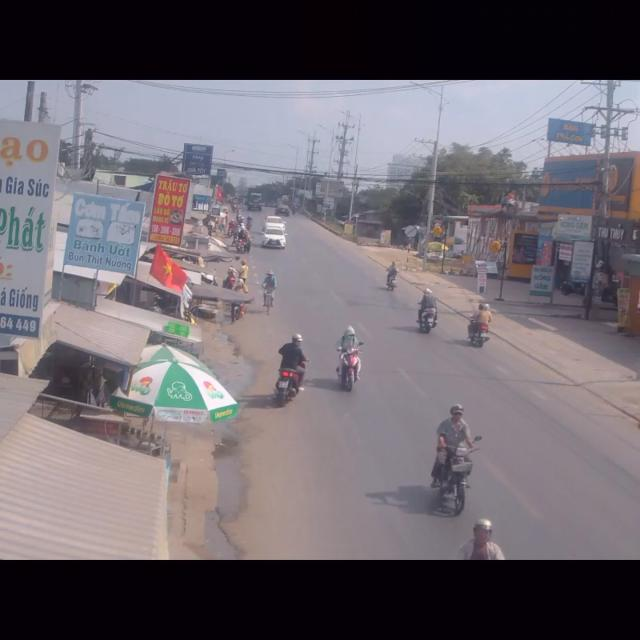motorbike: (425, 406, 474, 519), (275, 331, 307, 408), (337, 324, 363, 396), (466, 302, 488, 349), (417, 286, 437, 335), (383, 261, 396, 294)
